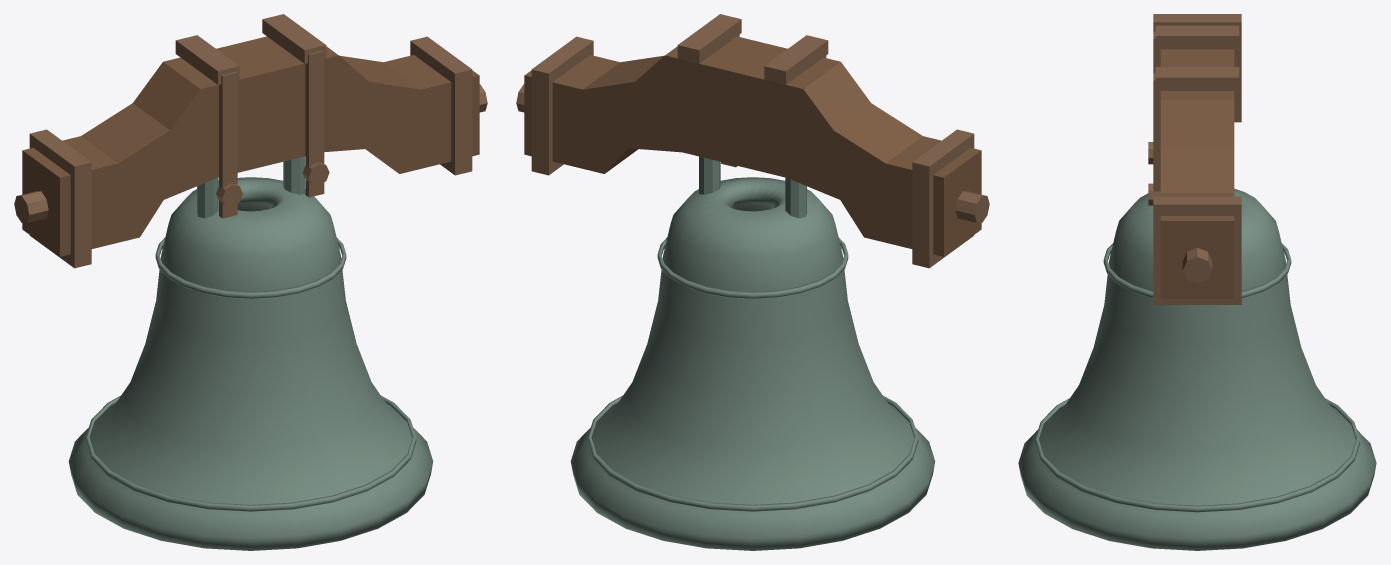
Rendered from T10_Bell_and_Yoke.glb.
3 views of the same model, side by side, from view 1: azimuth 30°, elevation 25°; view 2: azimuth 150°, elevation 25°; view 3: azimuth 270°, elevation 25° (orthographic).
Parts seen in each view (by area): view 1: T10_Bell_and_Yoke; view 2: T10_Bell_and_Yoke; view 3: T10_Bell_and_Yoke.
Boxes of the visible parts, x1,y1,x2,y2 form: T10_Bell_and_Yoke: (14, 14, 487, 550); T10_Bell_and_Yoke: (516, 14, 989, 550); T10_Bell_and_Yoke: (1018, 14, 1376, 550).
Bounding box in the file's own units: 2.12 × 2.11 × 1.46.
